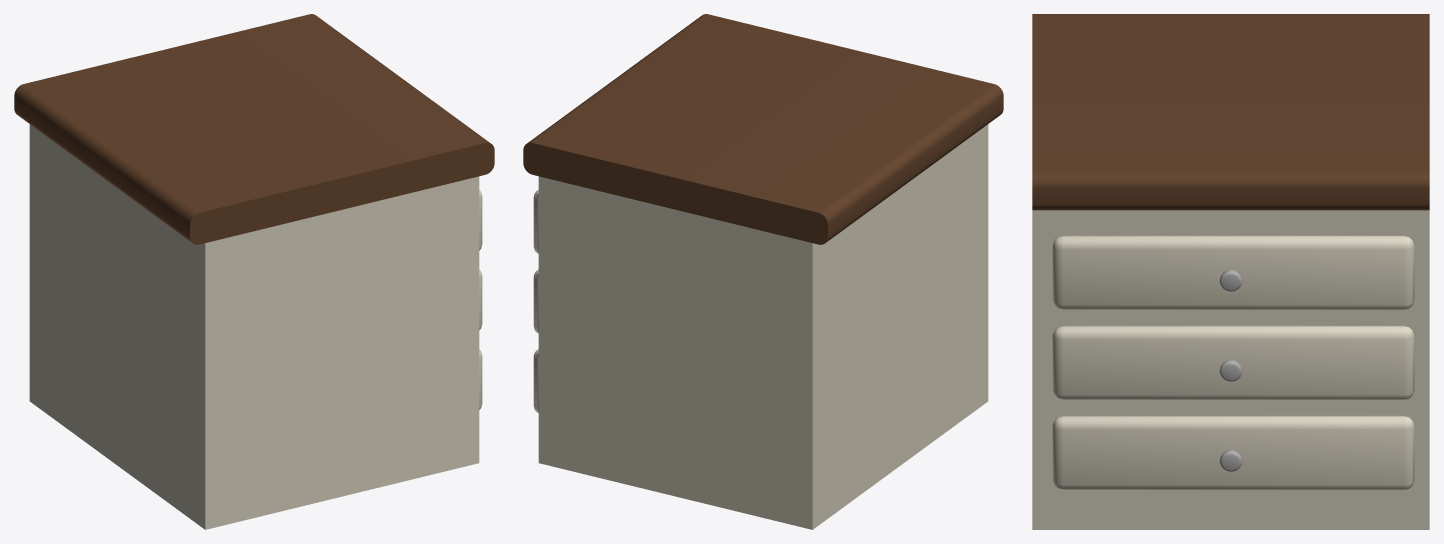
Rendered from Counter_1.fbx.
3 renders of one model, left to right at view 1: azimuth 30°, elevation 25°; view 2: azimuth 150°, elevation 25°; view 3: azimuth 270°, elevation 25°, orthographic. The views are drawn at different scales.
Parts seen in each view (by area): view 1: Cube.110, Cube.096; view 2: Cube.110, Cube.096; view 3: Cube.096, Cube.110, Cube.128, Cube.127, Cube.126.
Part boxes in pixels (x1,y1,x2,y2): Cube.110: (29,124,479,529); Cube.096: (14,14,494,244); Cube.110: (538,124,988,529); Cube.096: (523,14,1003,244); Cube.096: (1032,14,1429,210); Cube.110: (1032,210,1429,529); Cube.128: (1052,415,1414,490); Cube.127: (1052,325,1414,400); Cube.126: (1052,235,1414,310).
Bounding box in the file's own units: 208 × 200 × 200.
